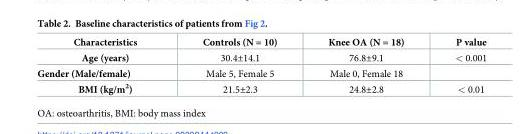table: (36, 36, 486, 95)
table column: (36, 36, 169, 95), (169, 36, 302, 95), (302, 36, 429, 95), (429, 36, 486, 95)
table column header: (36, 36, 486, 48)
table row: (36, 48, 486, 66), (36, 80, 486, 95), (36, 66, 486, 80), (36, 36, 486, 48)
